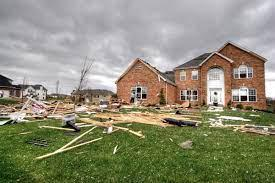minor: (117, 39, 270, 109)
